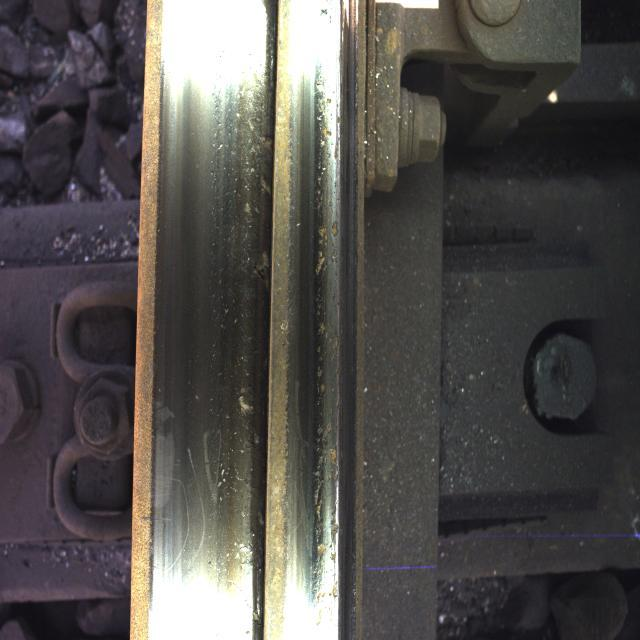scar: (182, 48, 262, 598), (276, 56, 342, 589)
